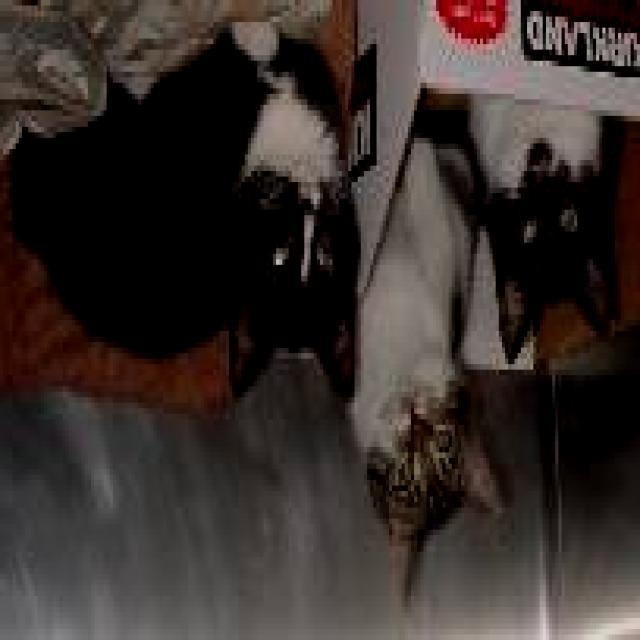Kucing: (4, 2, 365, 397), (449, 71, 624, 369), (342, 401, 498, 605)
